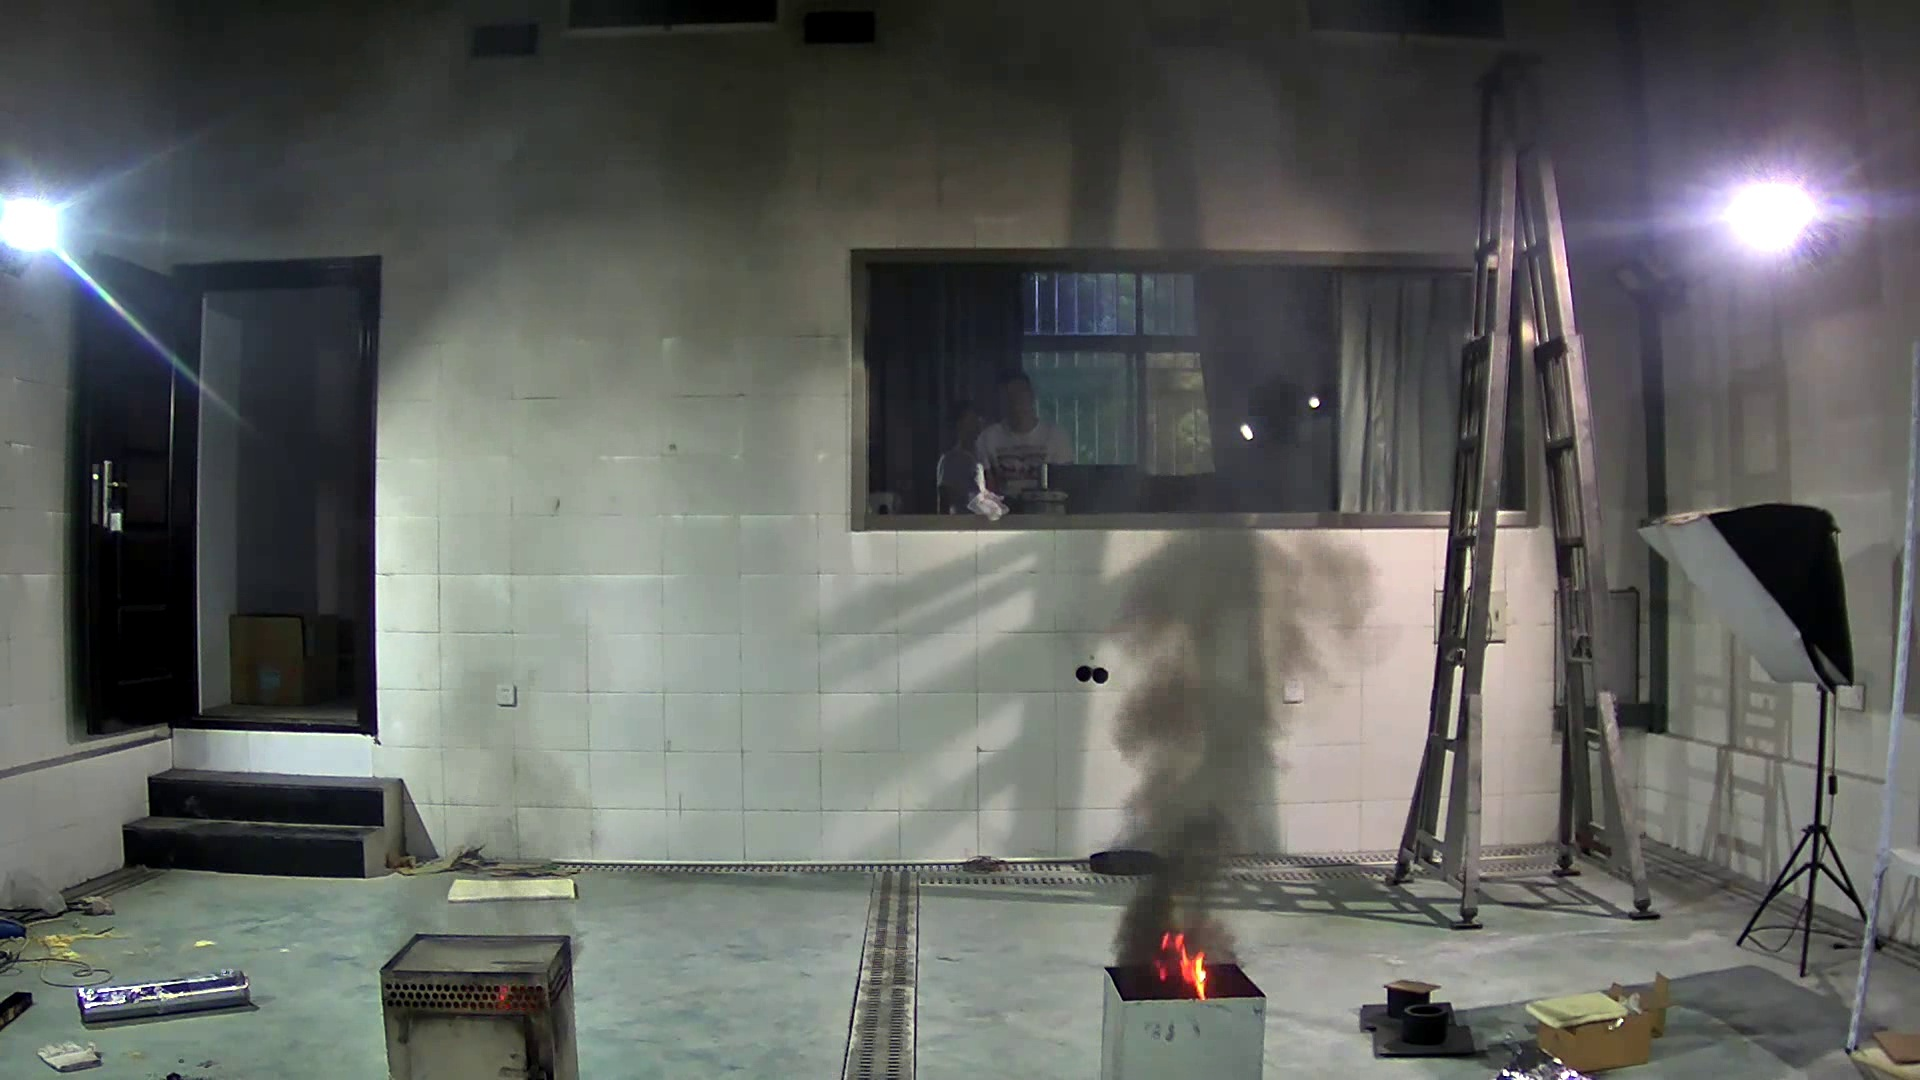smoke: (1075, 522, 1321, 957), (396, 566, 607, 886)
